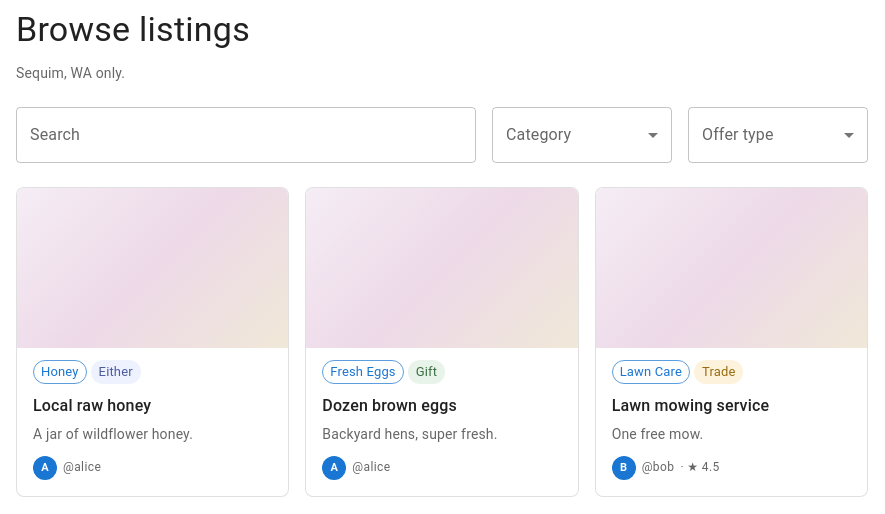
Test: BrowseListingsPage › filters by search keyword (debounced)
The image size is (885, 514).
Expected: the heading "Local raw honey" is shown, [33,396,151,415]
In the field labelled "Search": (246, 135) [16,107,476,163], type "lawn"
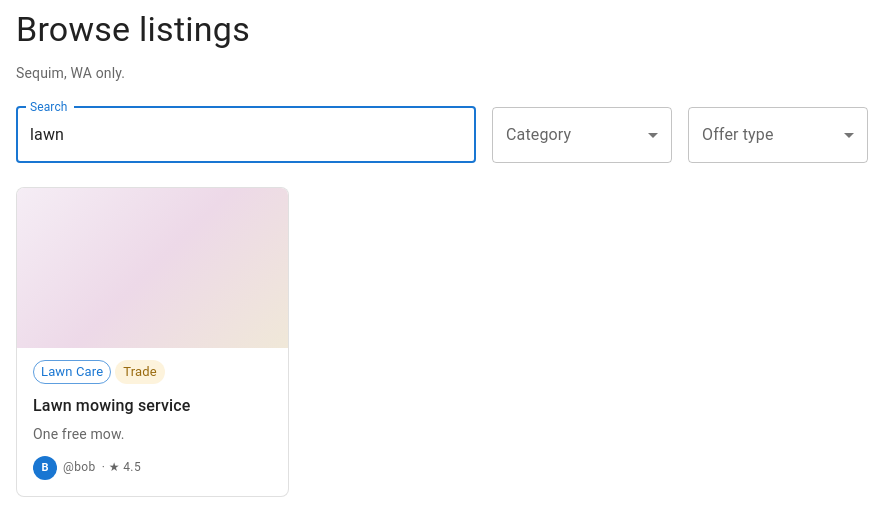
Expected: the heading "Lawn mowing service" is shown, [33,396,190,415]
Expected: the link "Local raw honey" is gone
